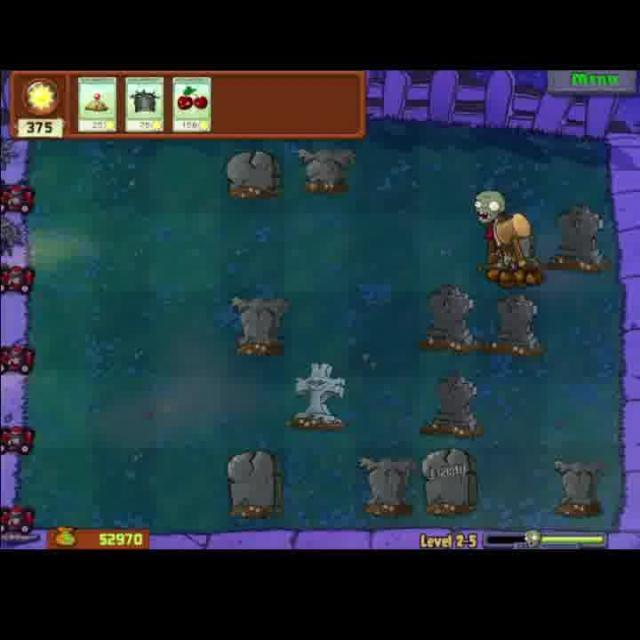zombies: (468, 186, 522, 276)
